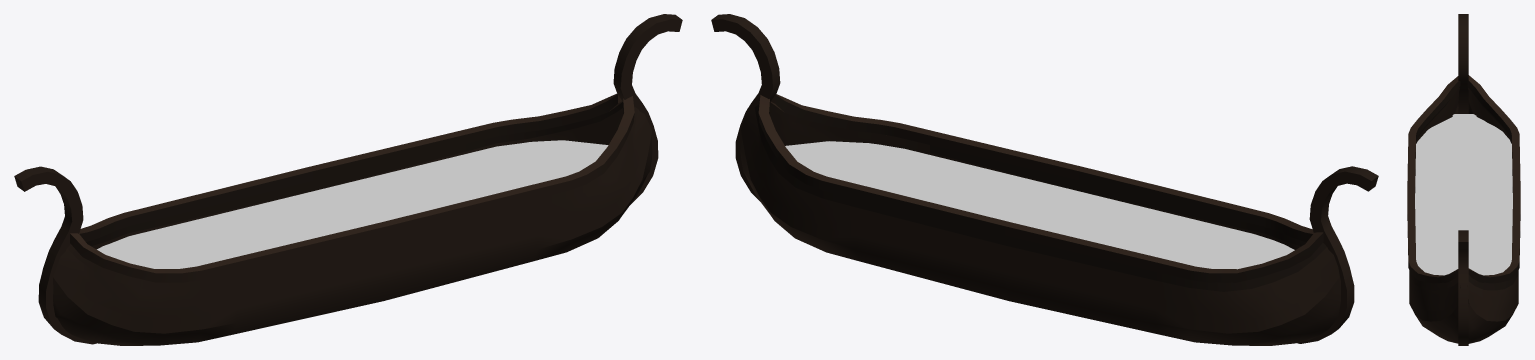
File: boat01.fbx
3 renders of one model, left to right at view 1: azimuth 30°, elevation 25°; view 2: azimuth 150°, elevation 25°; view 3: azimuth 270°, elevation 25°, orthographic. The views are drawn at different scales.
Visible parts, largest first — view 1: polySurface203, pCube501; view 2: polySurface203, pCube501; view 3: pCube501, polySurface203.
Part boxes in pixels (bbox=[...]): polySurface203: bbox=[14, 14, 682, 345]; pCube501: bbox=[97, 140, 608, 268]; polySurface203: bbox=[711, 14, 1378, 345]; pCube501: bbox=[785, 141, 1294, 269]; pCube501: bbox=[1415, 114, 1512, 275]; polySurface203: bbox=[1407, 14, 1520, 345].
Bounding box in the file's own units: 79.73 × 21.21 × 16.79.
